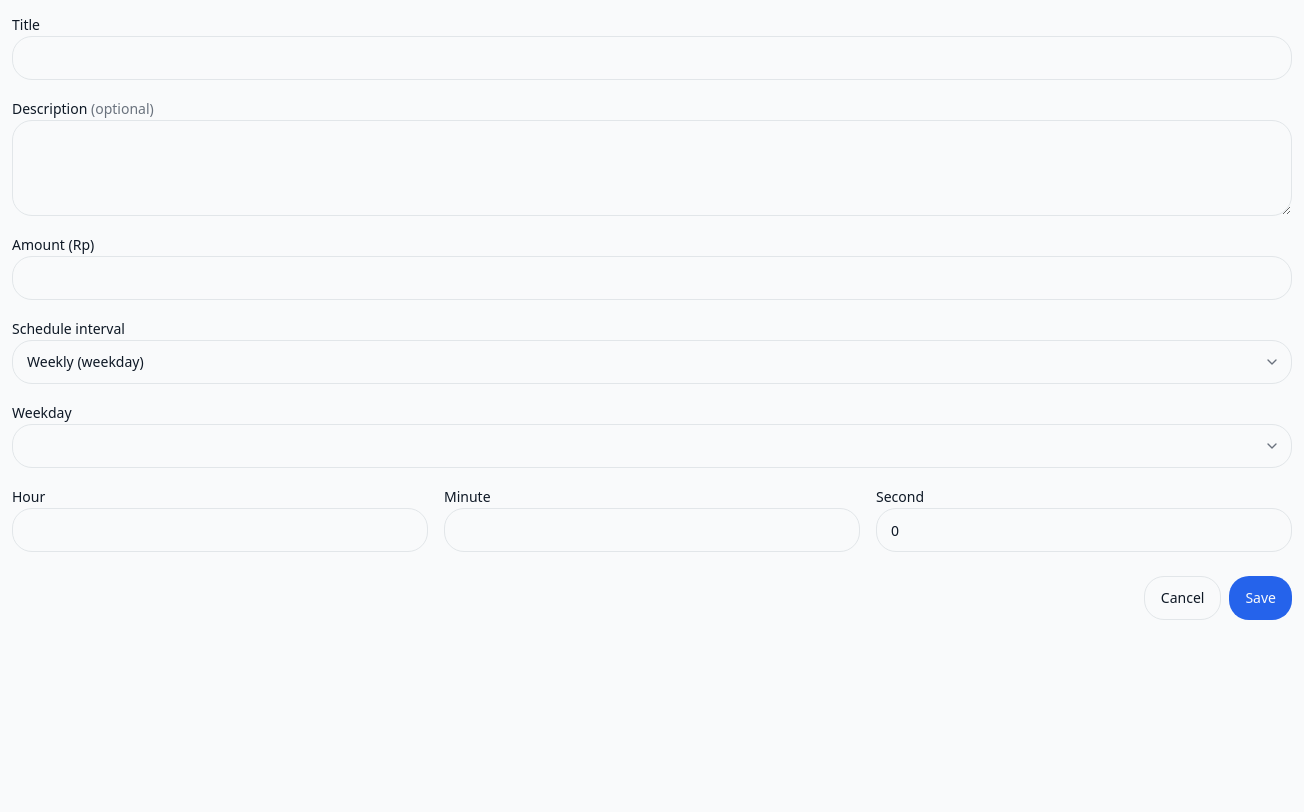
RecurringExpenseForm › shows weekday field for DAY interval
The image size is (1304, 812).
Expected: the dropdown labelled "Weekday" is shown, 12,424 -> 1292,468
Select "Monthly (day of month)" in the dropdown labelled "Schedule interval" at (652, 362), box 12,340 -> 1292,384
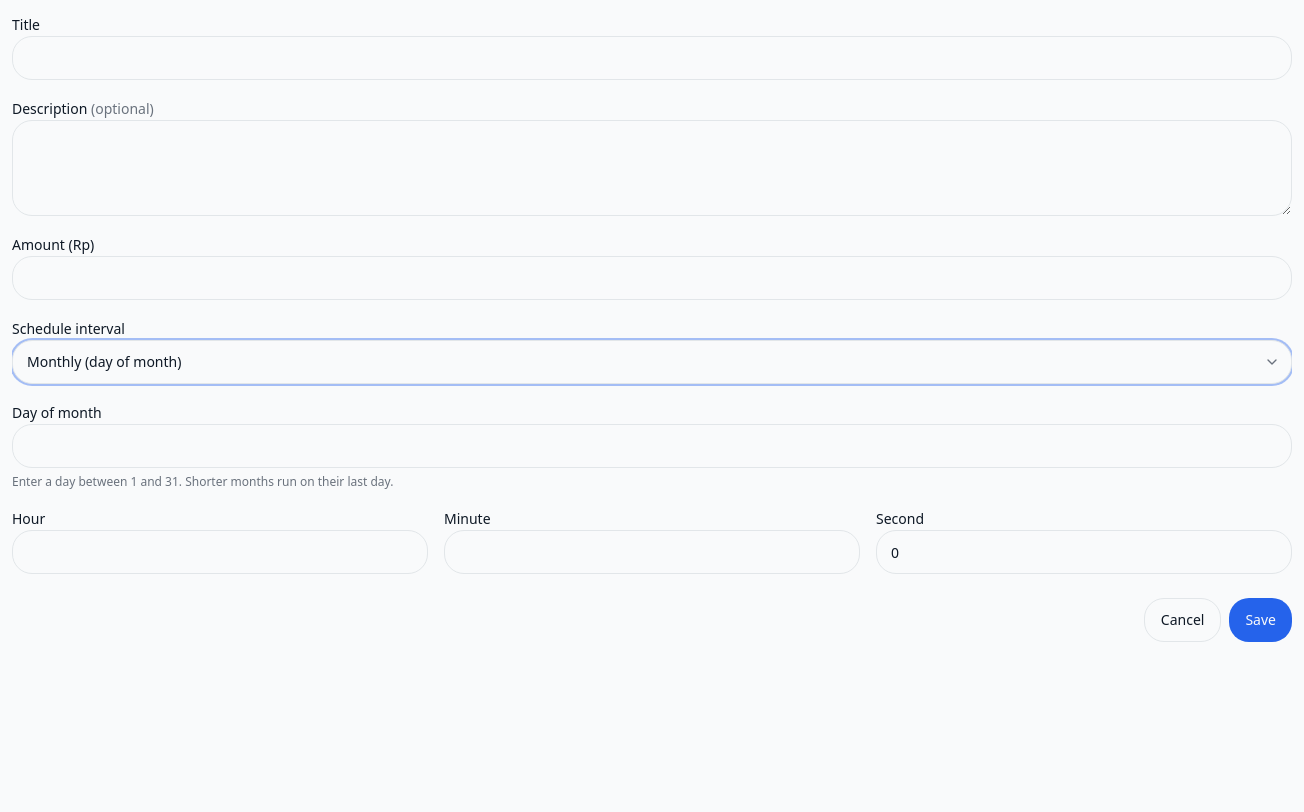
Expected: the label labelled "Weekday" is gone
